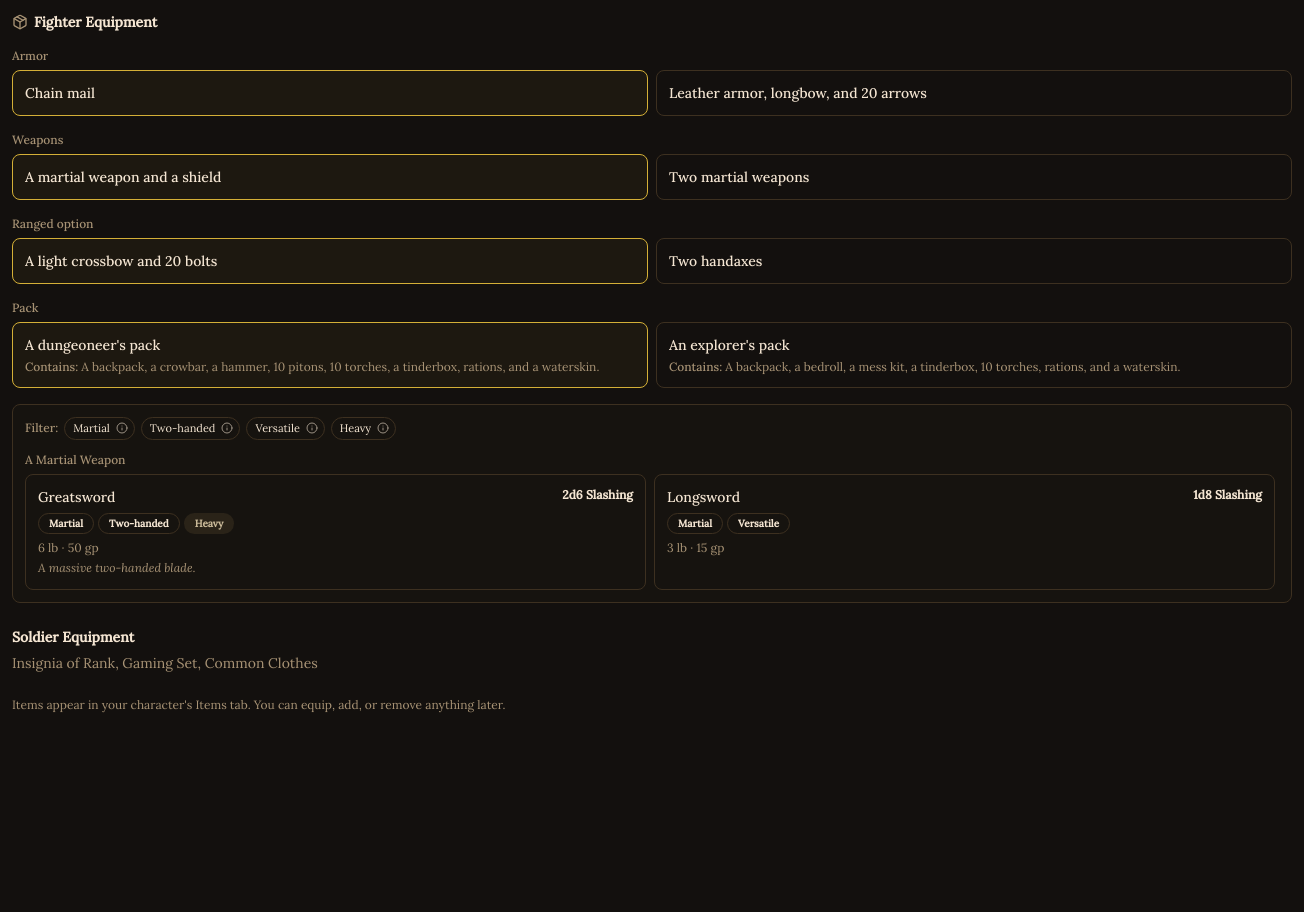
Test: StartingEquipmentStep › clears active filters via the Clear button
This screenshot has width=1304, height=912.
What coordinates should you click on to do the following:
click the button with test id "weapon-filter-Two-handed"
I would click on:
 (181, 428)
Its box is [142, 418, 219, 438].
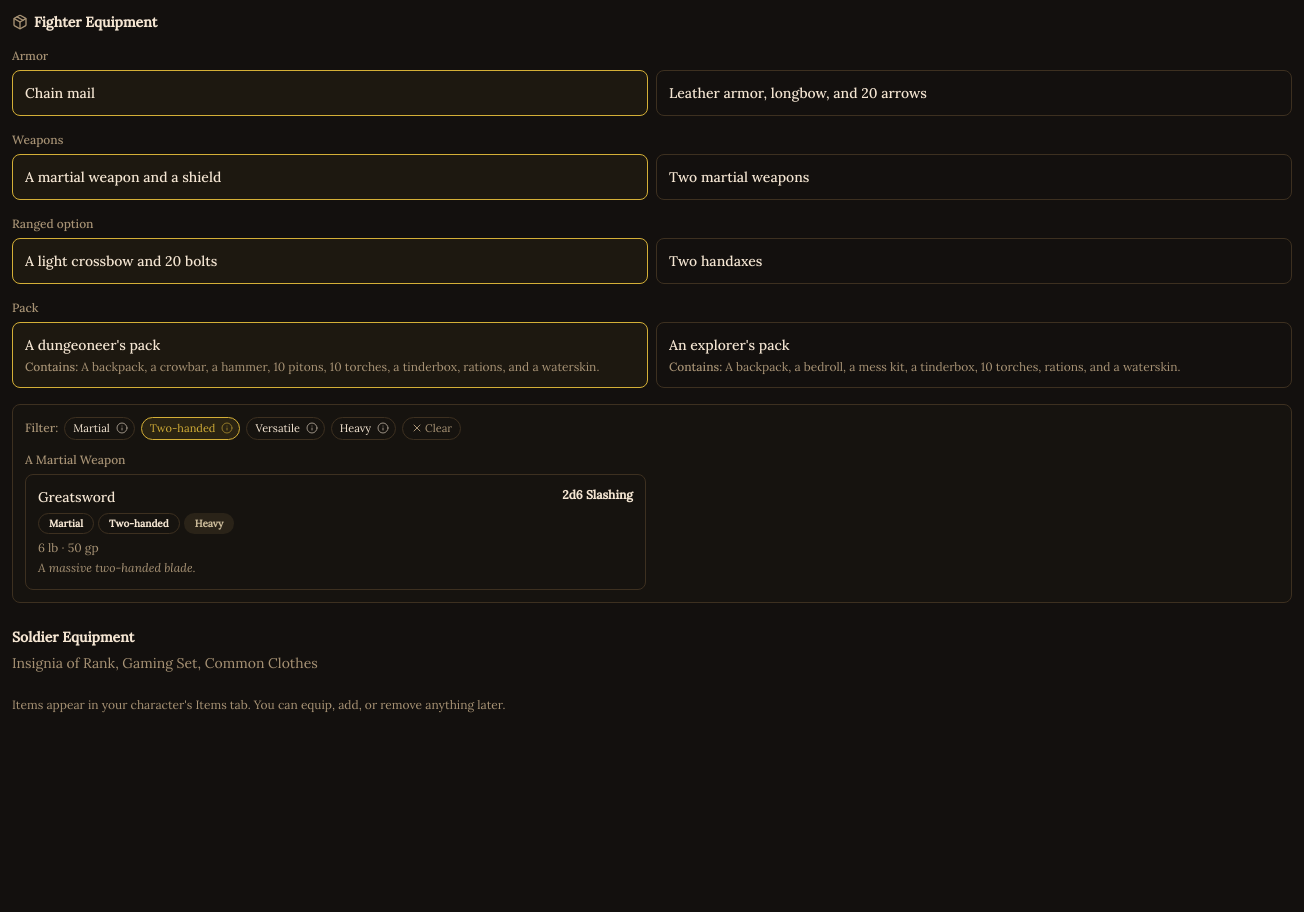
What coordinates should you click on to do the following:
click the button with test id "weapon-filter-clear"
I would click on:
 (432, 428)
Its box is [402, 417, 461, 440].
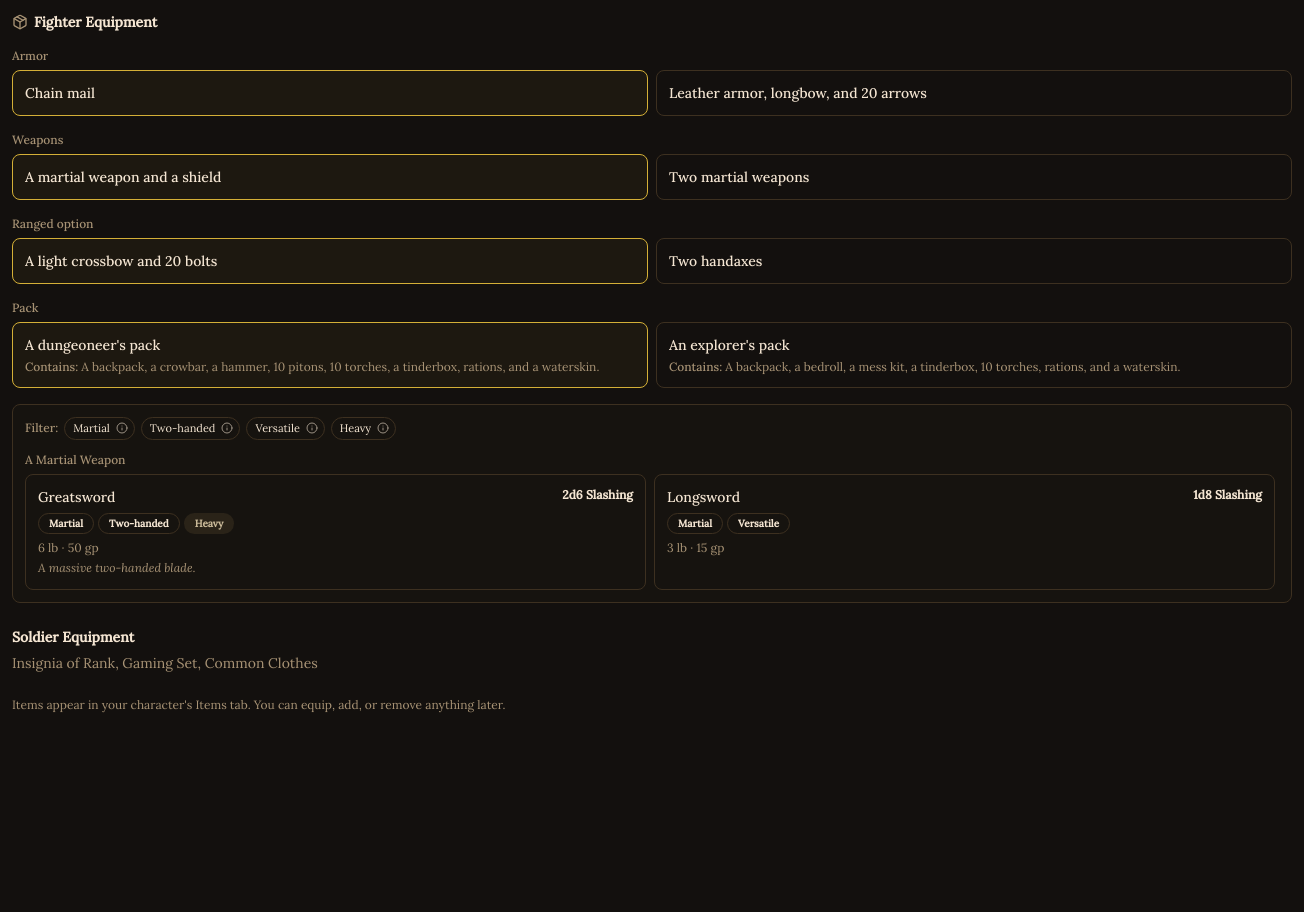
Result: the button with test id "equip-weapon-f2:a:0-Longsword" is shown at [654, 474, 1275, 590]
